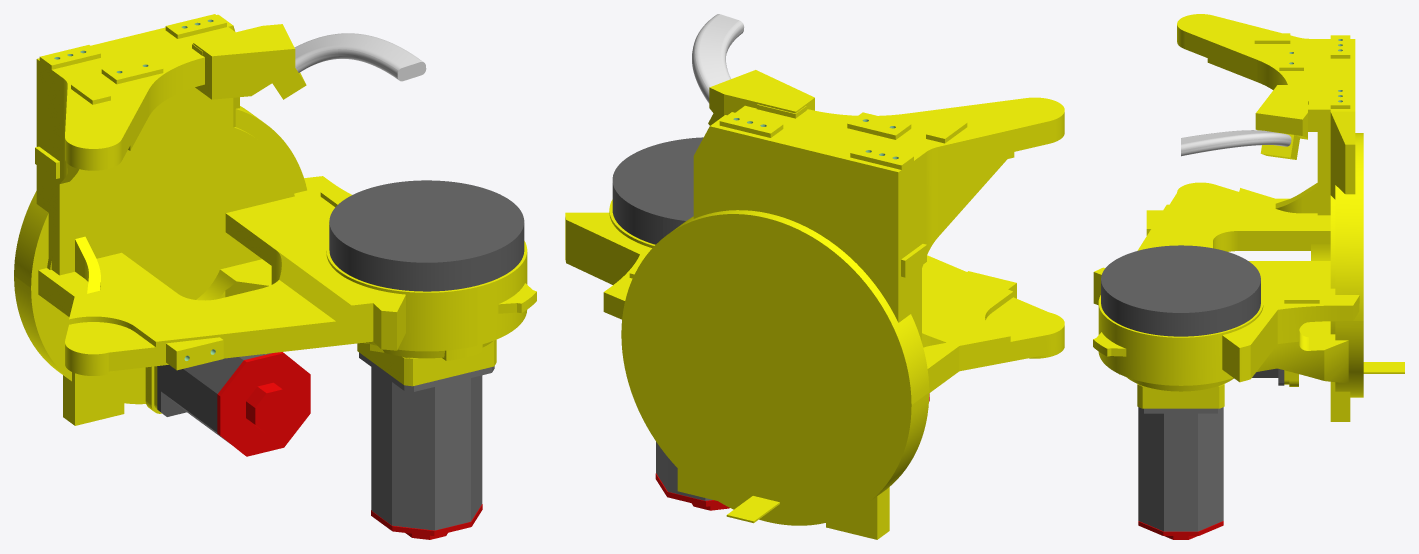
3 renders of one model, left to right at view 1: azimuth 30°, elevation 25°; view 2: azimuth 150°, elevation 25°; view 3: azimuth 270°, elevation 25°, orthographic. The views are drawn at different scales.
Visible parts, largest first — view 1: Mesh_0; view 2: Mesh_0; view 3: Mesh_0.
Boxes of the visible parts, x1=… form: Mesh_0: x1=14, y1=14, x2=536, y2=539; Mesh_0: x1=565, y1=14, x2=1064, y2=539; Mesh_0: x1=1093, y1=14, x2=1404, y2=539.
Size of the model in its own units: 0.8733 by 0.8714 by 0.6336.
